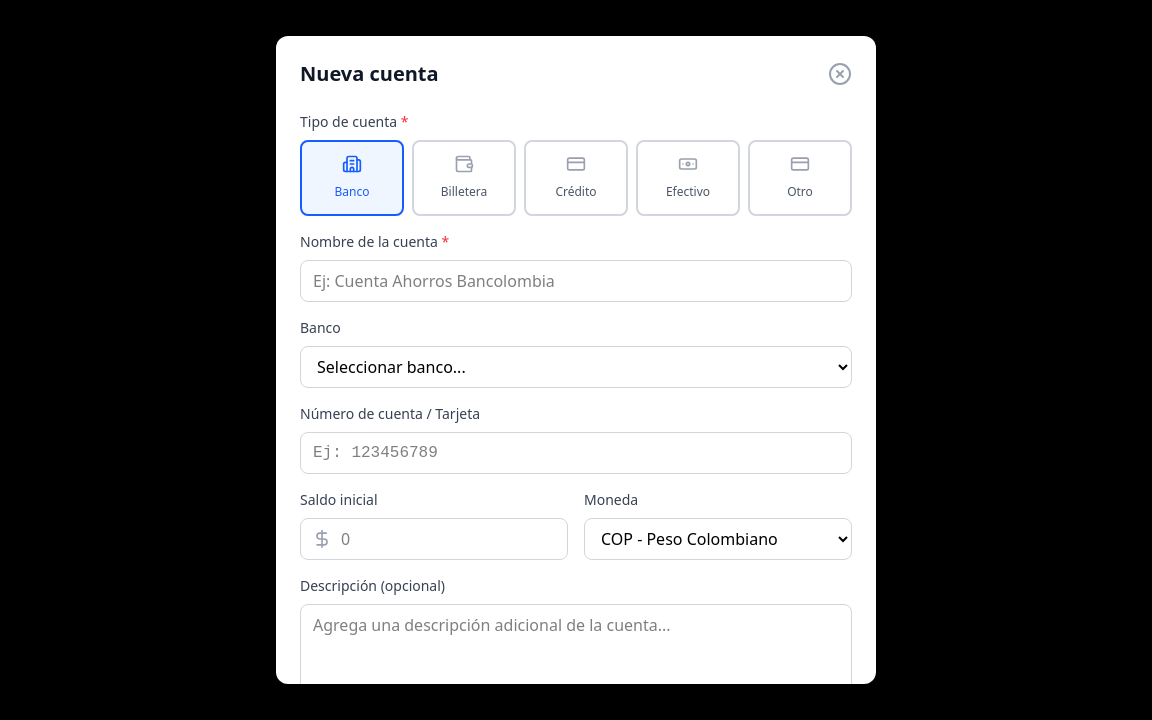
Test: NewAccountModal › debe mostrar campos específicos para tarjetas de crédito
Click the button "Crédito": (576, 178) [524, 140, 628, 216]
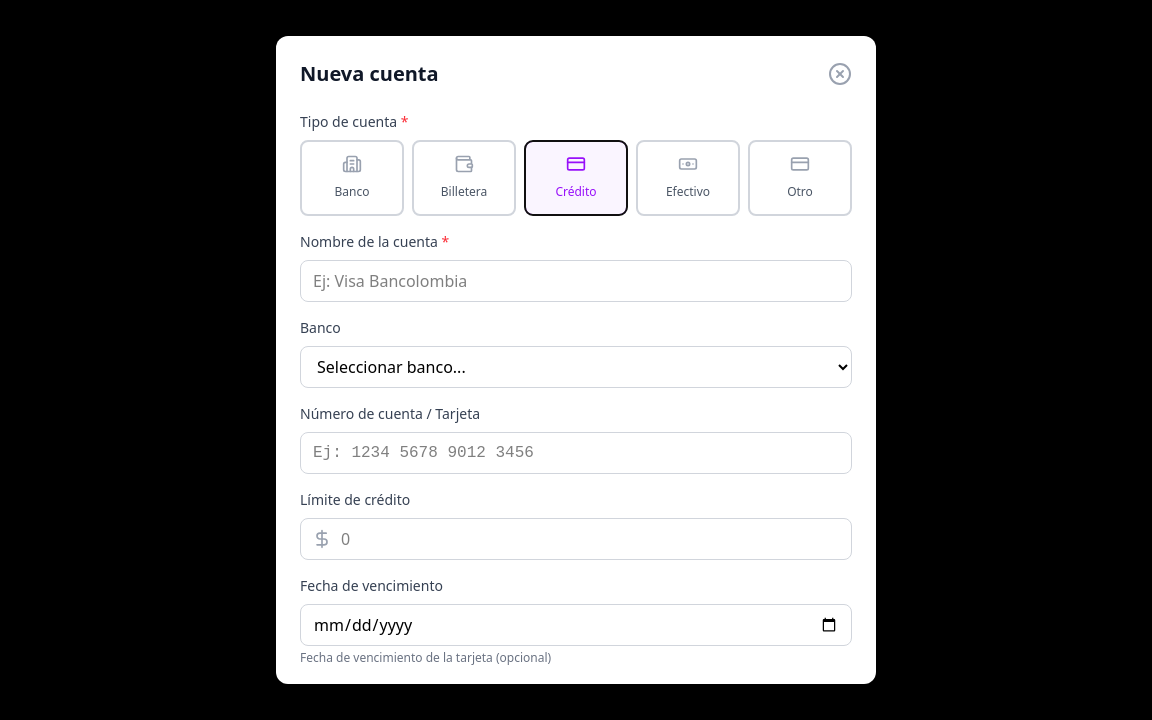
Check: the text "Límite de crédito" is shown, box [300, 490, 410, 509]
Check: the text "Fecha de vencimiento" is shown, box [300, 576, 443, 595]
